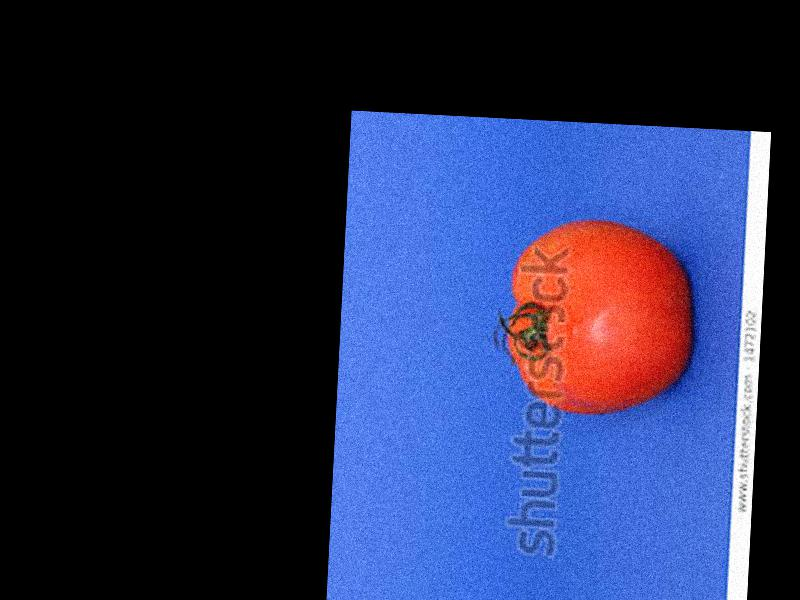Tomato: (502, 212, 695, 416)
